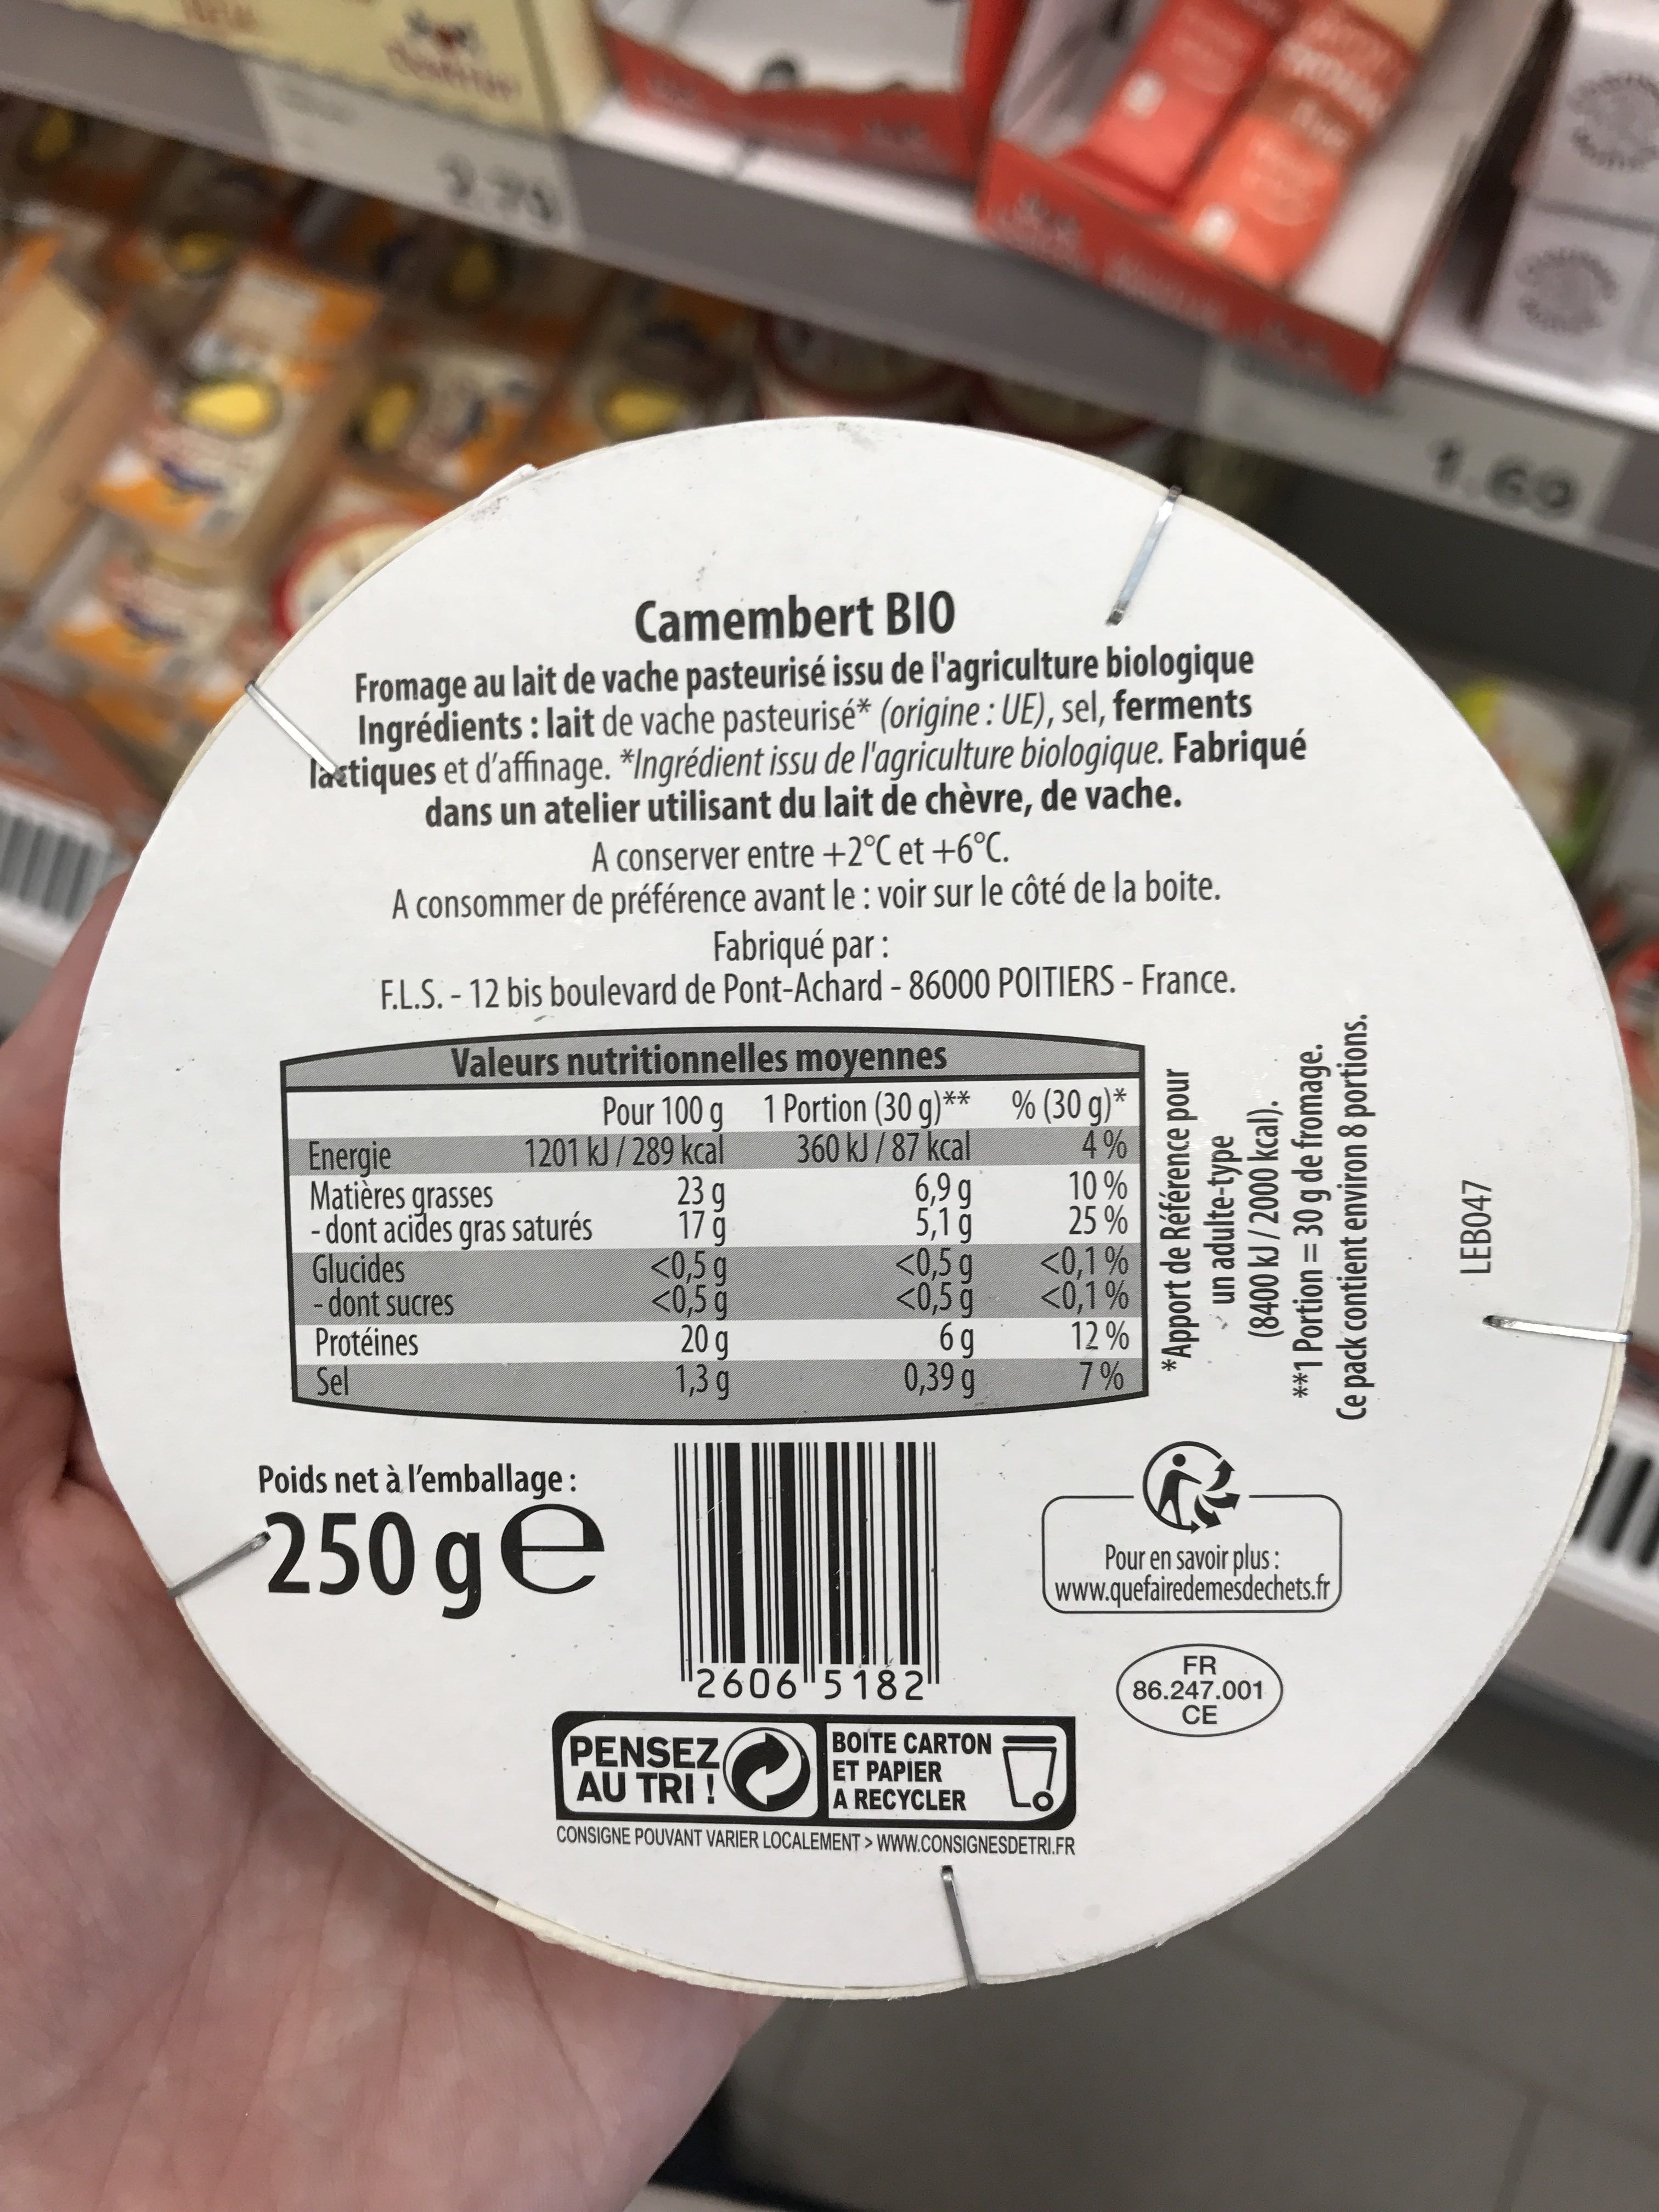column: (303, 1064, 732, 1430), (760, 1064, 981, 1430), (1006, 1064, 1154, 1430)
table: (277, 1024, 1150, 1428)
